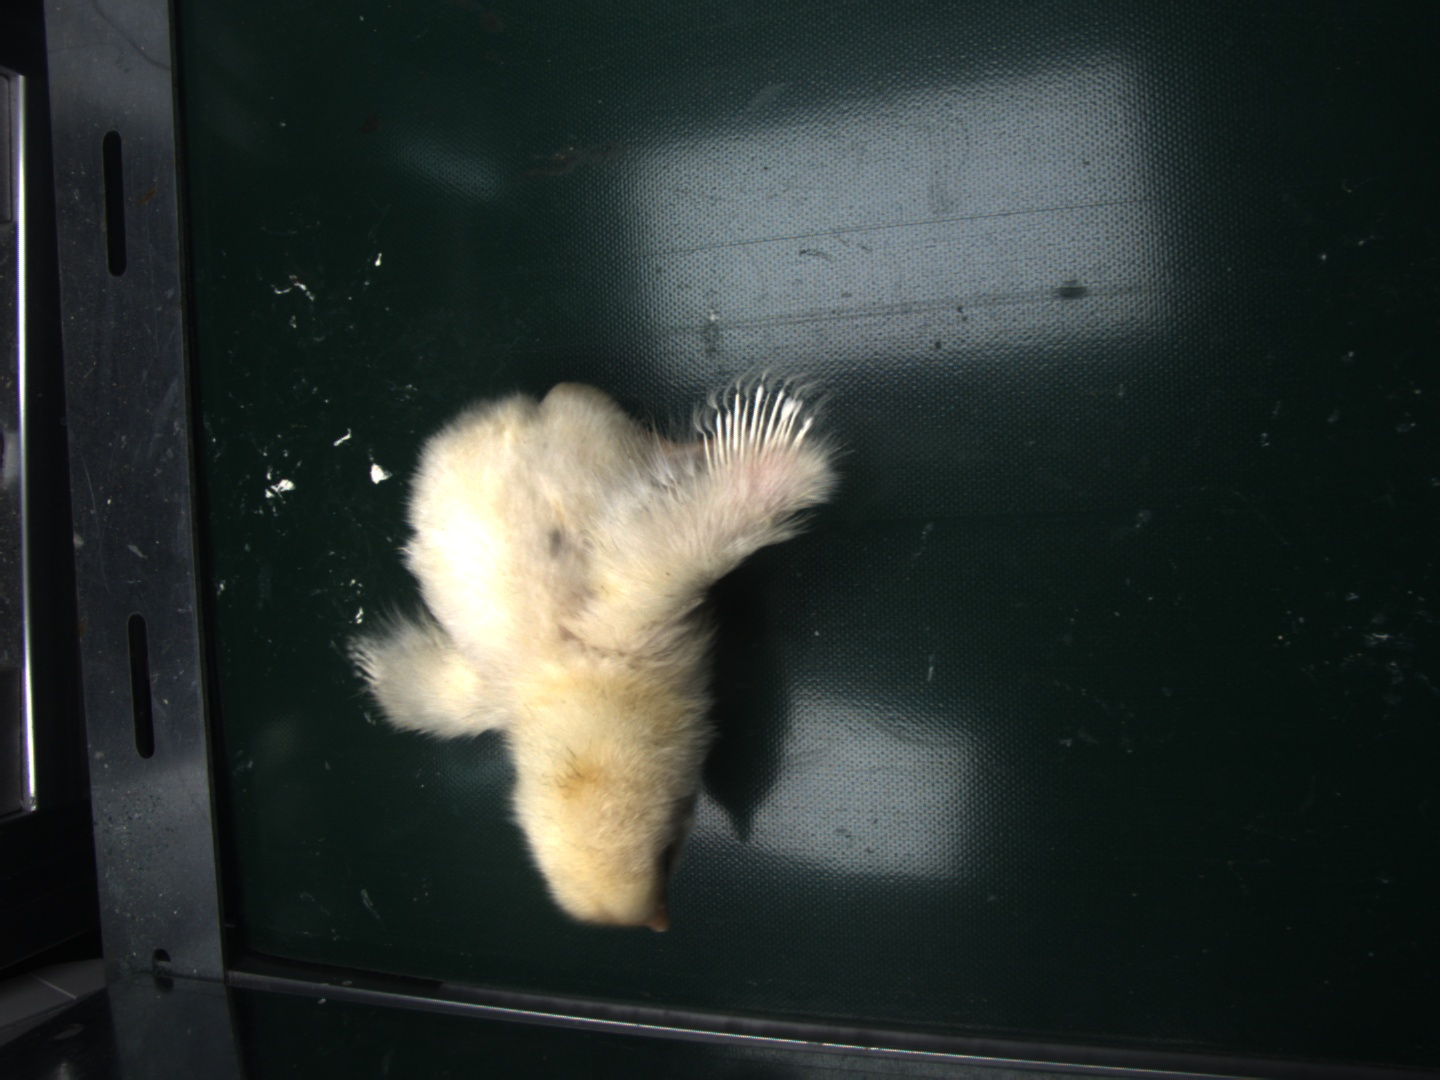male: (705, 379, 823, 459)
